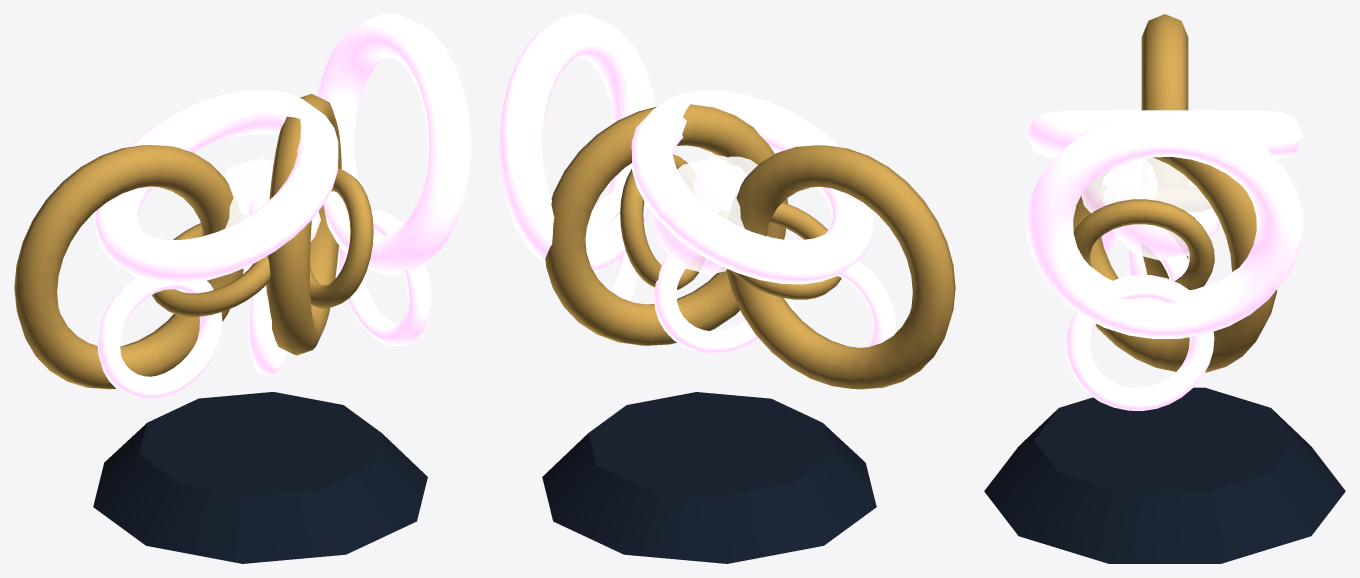
The model's file is expchain.glb.
3 renders of one model, left to right at view 1: azimuth 30°, elevation 25°; view 2: azimuth 150°, elevation 25°; view 3: azimuth 270°, elevation 25°, orthographic. The views are drawn at different scales.
Visible parts, largest first — view 1: body, identity-expchain; view 2: body, identity-expchain; view 3: body, identity-expchain.
Boxes of the visible parts, <box> form: body: <box>14,14,470,563</box>; identity-expchain: <box>97,168,431,398</box>; body: <box>499,14,955,563</box>; identity-expchain: <box>586,154,895,353</box>; body: <box>984,14,1345,563</box>; identity-expchain: <box>1065,161,1214,410</box>.
Size of the model in its own units: 1.62 by 1.61 by 1.16.
